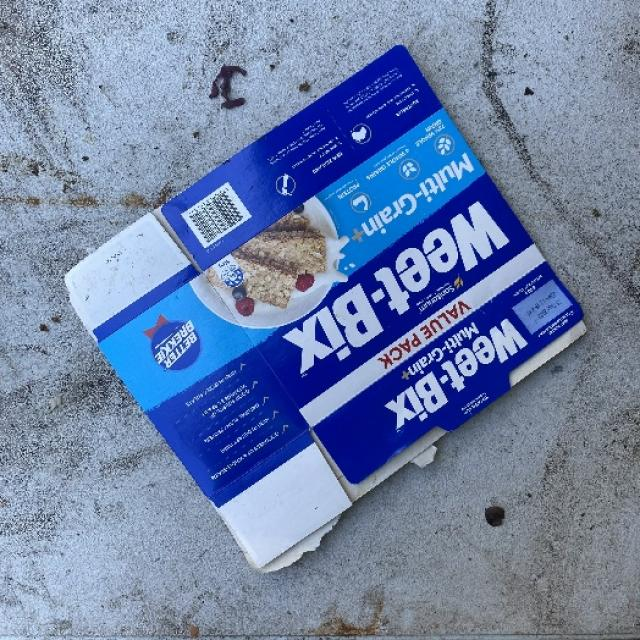kertas: (48, 122, 561, 524)
